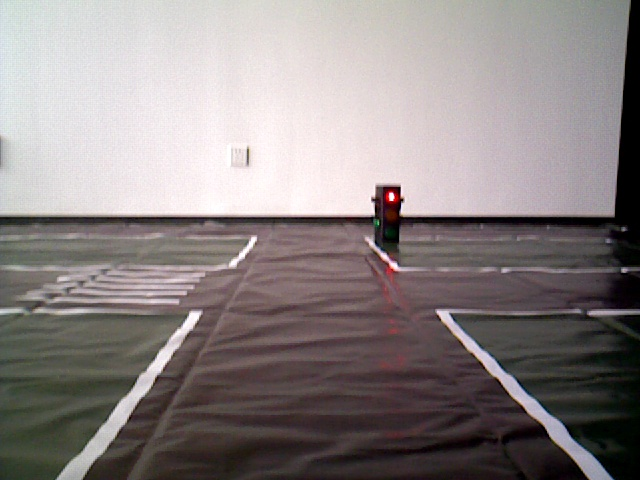red: (374, 185, 398, 246)
